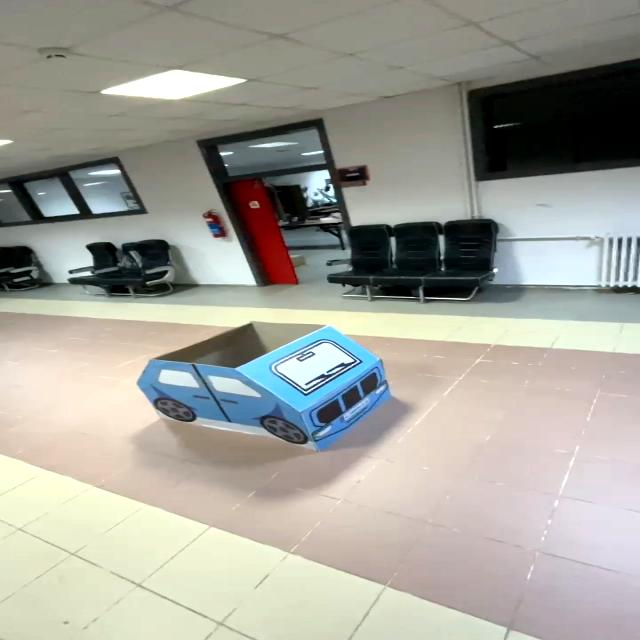blue_car: (128, 308, 418, 463)
